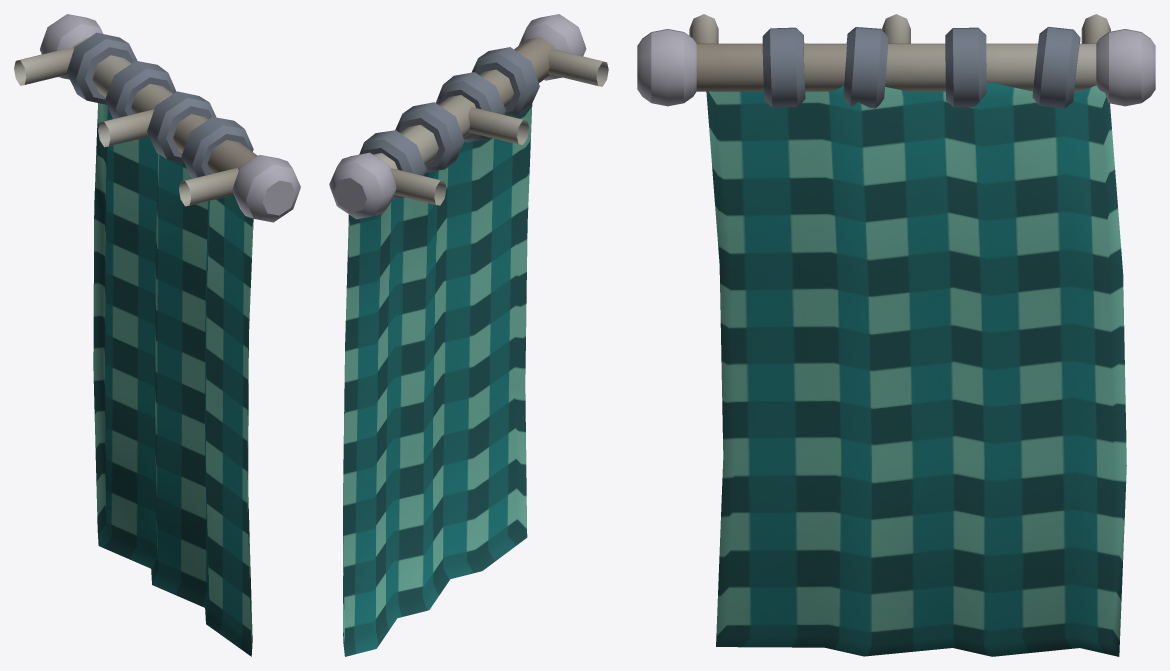
Rendered from Curtains_Short_1_B_D.glb.
The picture shows the model from 3 angles, left to right: view 1: azimuth 30°, elevation 25°; view 2: azimuth 150°, elevation 25°; view 3: azimuth 270°, elevation 25°; orthographic projection. The views are drawn at different scales.
Parts seen in each view (by area): view 1: Curtains_Short_1_B_D; view 2: Curtains_Short_1_B_D; view 3: Curtains_Short_1_B_D.
Boxes of the visible parts, box(x1,y1,x2,y2) form: Curtains_Short_1_B_D: box(14, 14, 300, 656); Curtains_Short_1_B_D: box(329, 14, 608, 656); Curtains_Short_1_B_D: box(637, 14, 1155, 656).
Size of the model in its own units: 0.2275 by 1.16 by 0.8807.
Materials: 2 (2 with a texture image).
